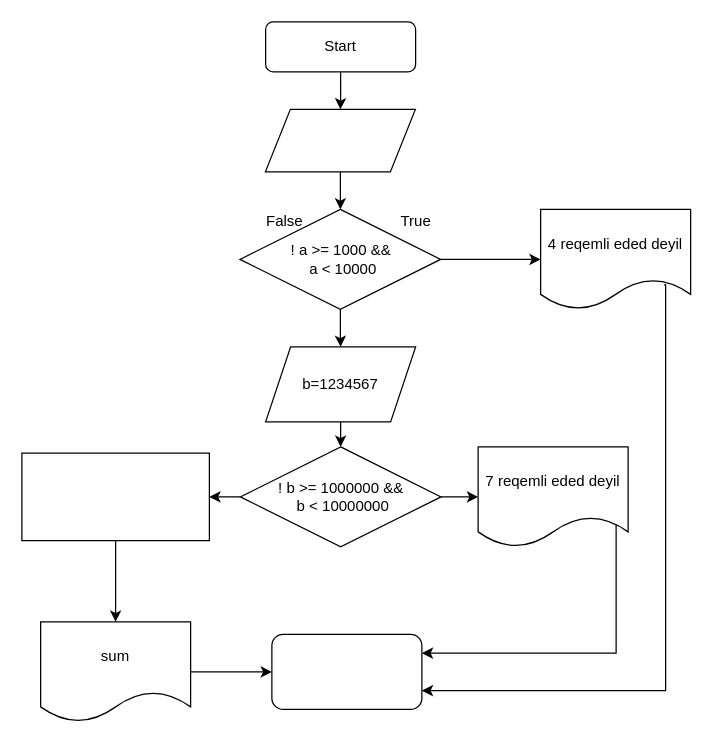
Some shapes in this 713 by 744 pixel diagram are drawn without their labels. The shapes that lost their labels are listed below. From the top down, each one's centre as x and y in pixels, then its label:
At (339,140): "a=1234".
At (115,496): "a *= 4; a /= 100; b *= 9; b /= 100; sum = ((a + b)* 10)/100;".
At (346,671): "End".
